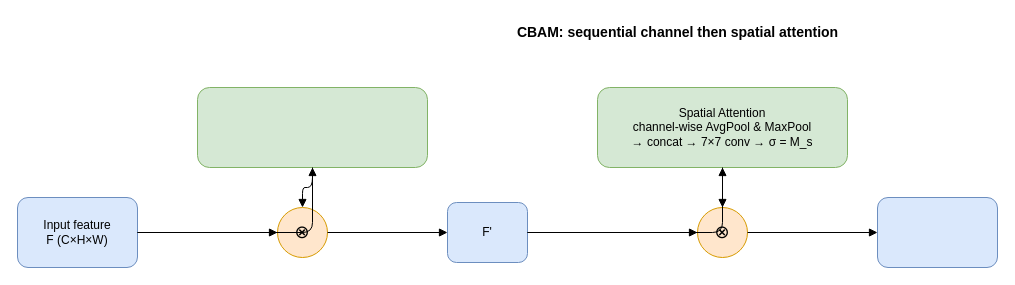
The diagram is 1015 pixels wide and 285 high, and some of its shapes have lost their labels. Each missing label, with the centre of its shape:
"Channel Attention GAP & GMP → shared MLP → sum → σ = M_c" goes at (x=312, y=127).
"Refined feature F''" goes at (x=937, y=232).
